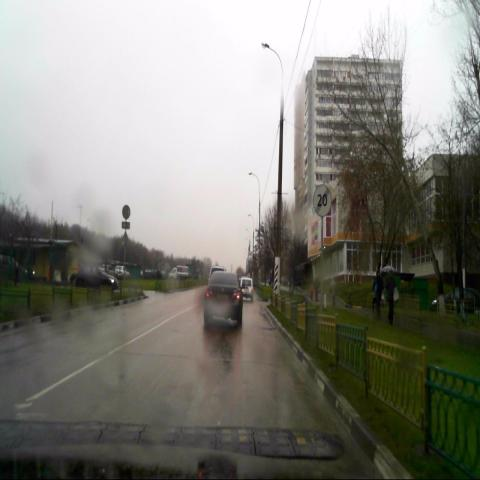3_25: (313, 184, 331, 217)
